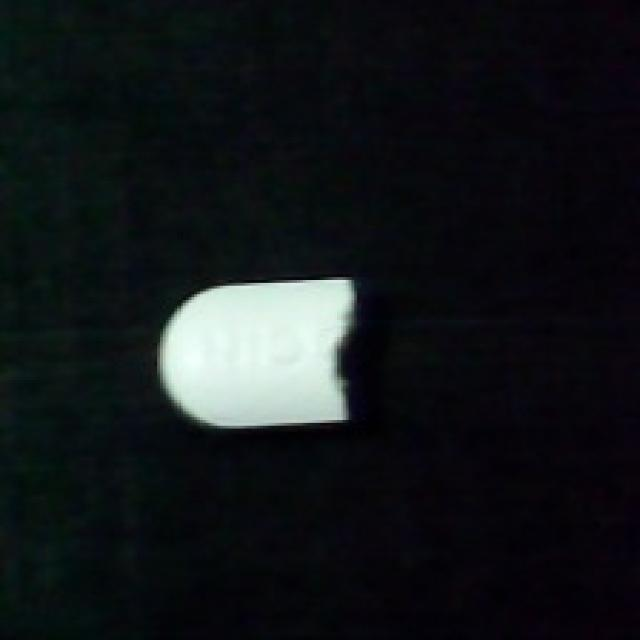defected: (149, 269, 369, 437)
